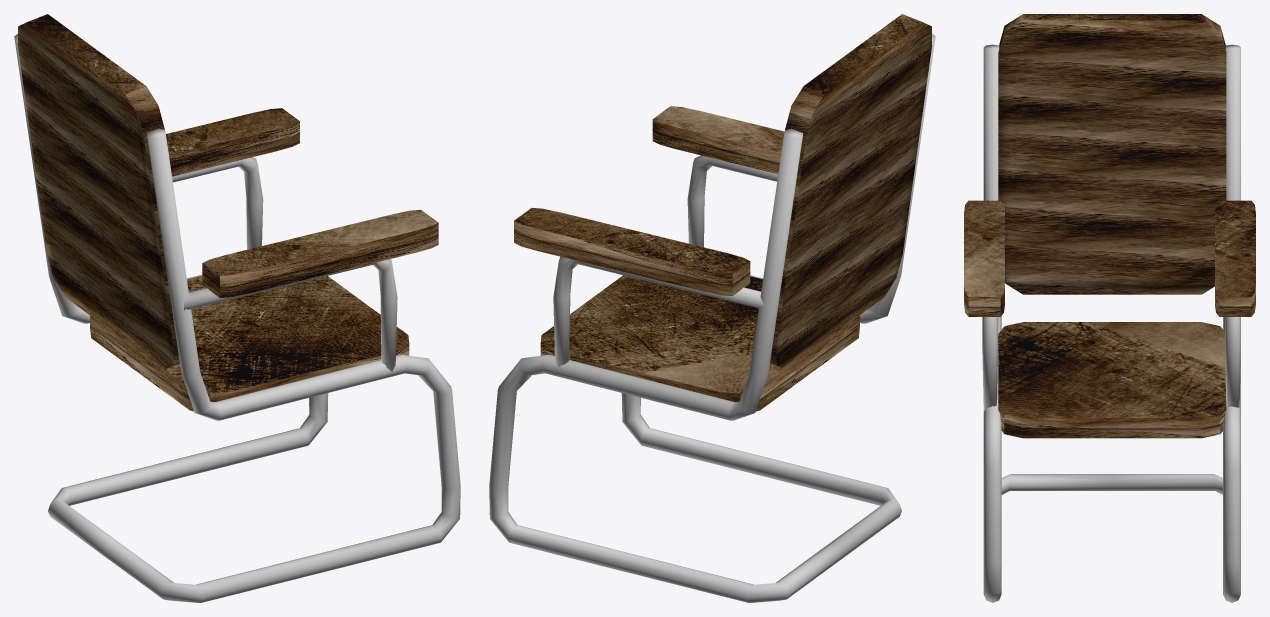
Rendered from Chair.fbx.
3 views of the same model, side by side, from view 1: azimuth 30°, elevation 25°; view 2: azimuth 150°, elevation 25°; view 3: azimuth 270°, elevation 25° (orthographic). The views are drawn at different scales.
Visible parts, largest first — view 1: Seat, Frame; view 2: Seat, Frame; view 3: Seat, Frame.
Boxes of the visible parts, <box> form: Seat: <box>17,14,438,411</box>; Frame: <box>14,34,460,602</box>; Seat: <box>514,14,932,411</box>; Frame: <box>489,34,935,602</box>; Seat: <box>964,14,1255,438</box>; Frame: <box>982,44,1240,602</box>.
Size of the model in its own units: 290 by 449 by 256.
